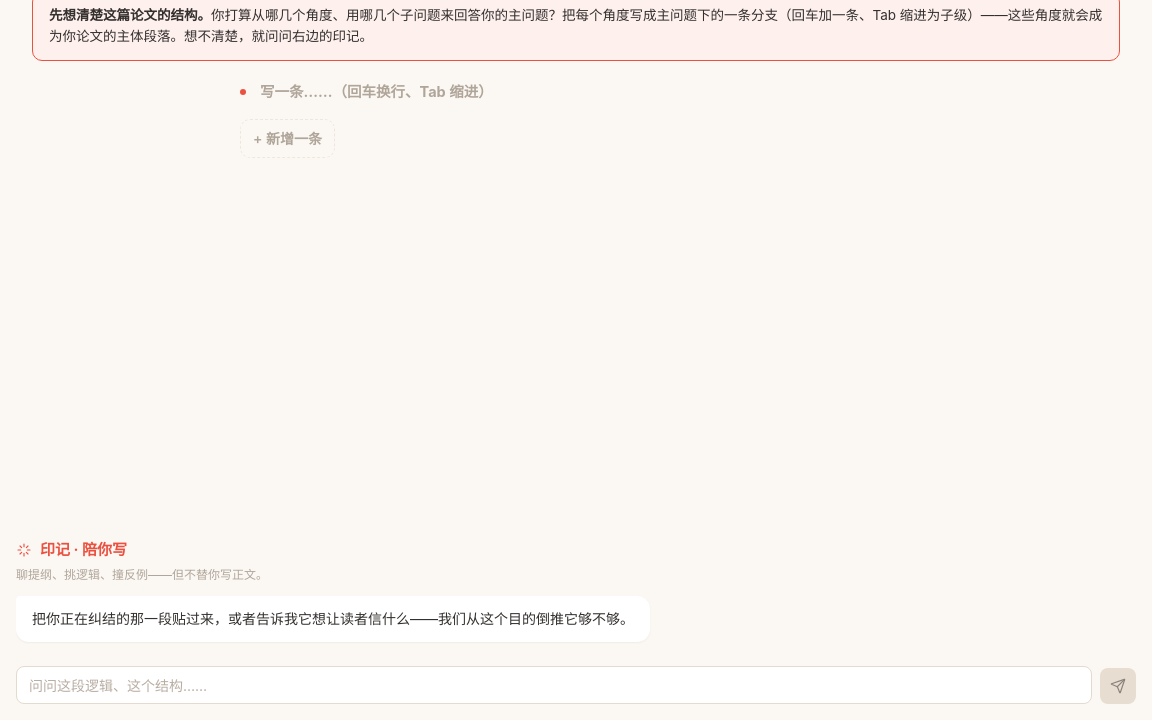
Test case: WritingBlock · coach on the shared AiPanel (Task 7) › sends a message through the shared Composer via the container-owned send loop
This screenshot has width=1152, height=720.
(page scrolled)
In the text box with placeholder "问问这段逻辑、这个结构……": (554, 685) [16,666,1092,704], type "我的反例够有力吗？"
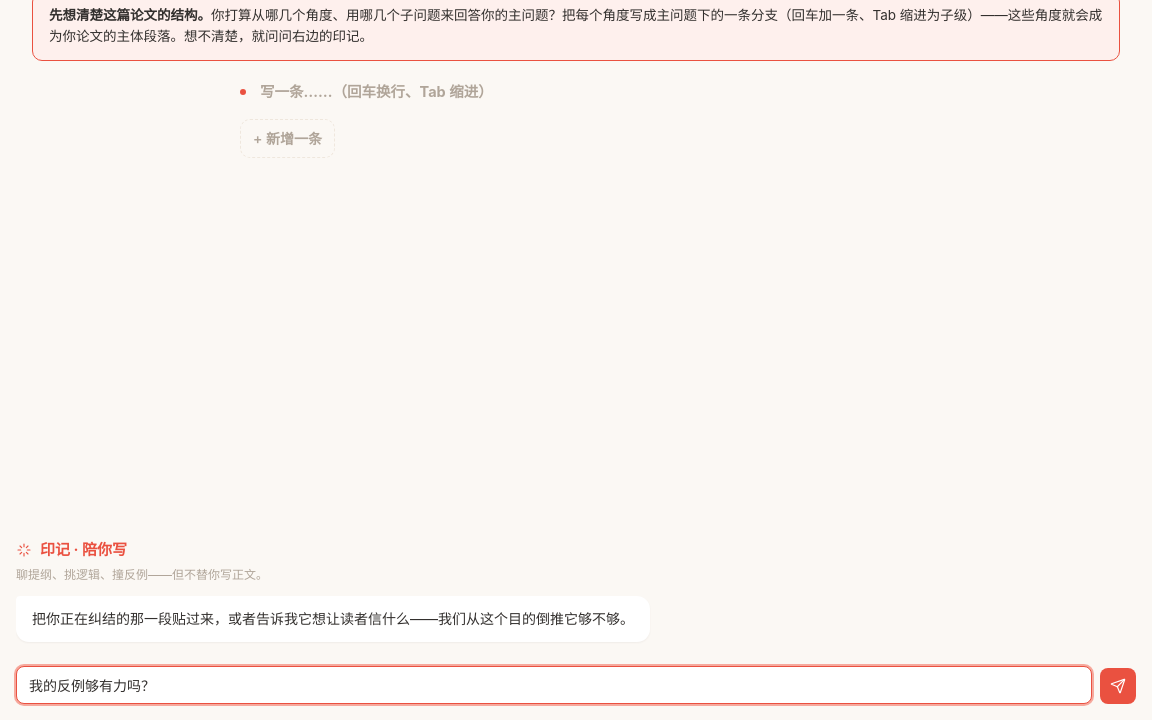
Click the button named "发送": click(1118, 686) [1100,668,1136,704]
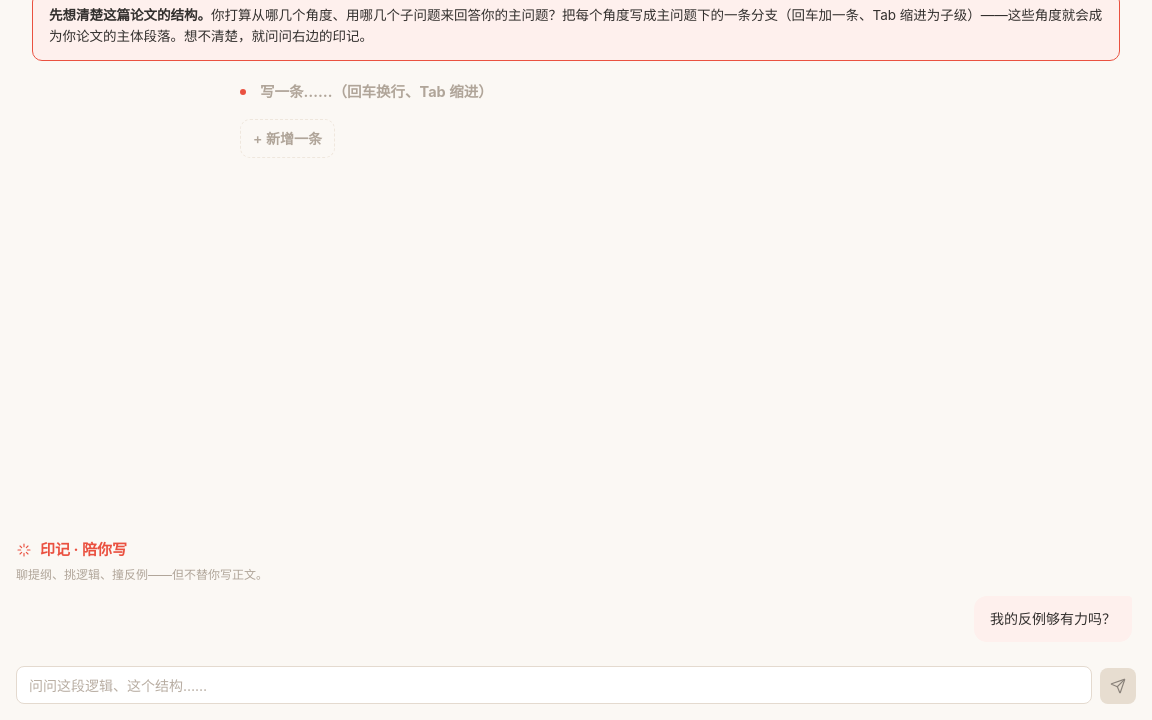
Check: the text "我的反例够有力吗？" is shown, box [990,610,1116,626]
